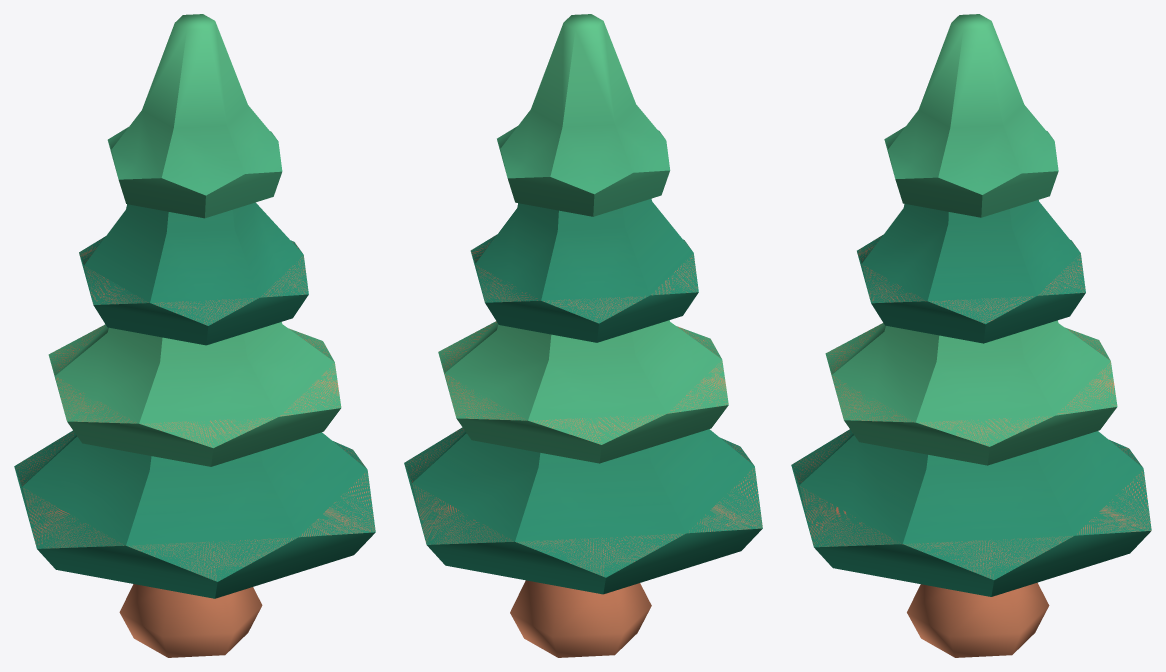
Rendered from pine.001.002.001.001_lev1.glb.
3 views of the same model, side by side, from view 1: azimuth 30°, elevation 25°; view 2: azimuth 150°, elevation 25°; view 3: azimuth 270°, elevation 25° (orthographic).
Visible parts, largest first — view 1: pine.001.002.001.001_lev1; view 2: pine.001.002.001.001_lev1; view 3: pine.001.002.001.001_lev1.
Part boxes in pixels (box(x1,y1,x2,y2)): pine.001.002.001.001_lev1: box(14, 14, 375, 657); pine.001.002.001.001_lev1: box(404, 14, 762, 657); pine.001.002.001.001_lev1: box(791, 14, 1151, 657).
Size of the model in its own units: 13.26 by 23.02 by 12.25.
1 material, 1 textured.
